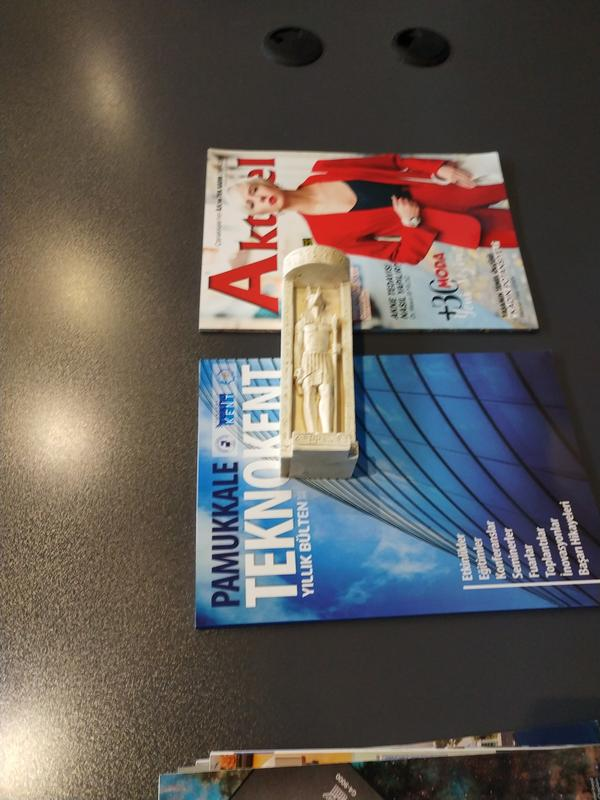heykel: (268, 236, 371, 485)
